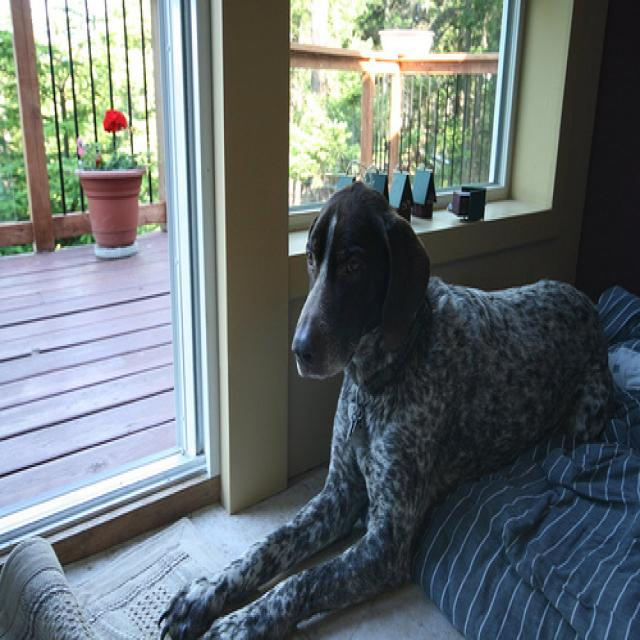dog-german_shorthaired: (159, 175, 620, 636)
